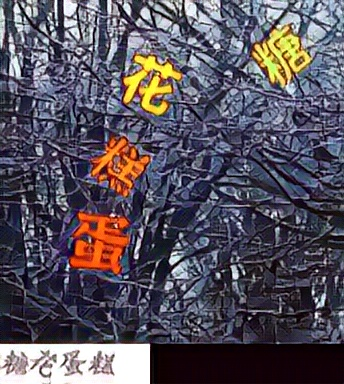B5B0: (67, 210, 129, 274)
B8E2: (87, 135, 149, 199)
BBA8: (119, 54, 181, 118)
CCC7: (250, 22, 312, 86)
